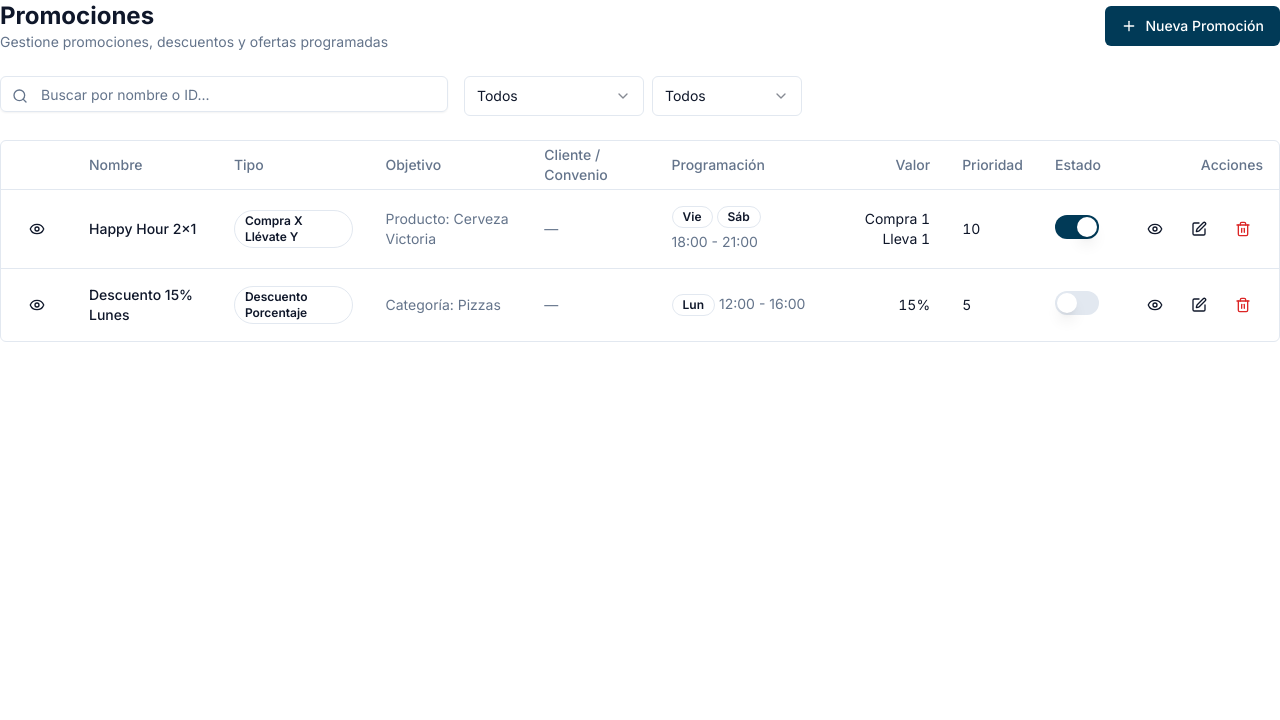
PromotionsList › target category display (T0.5'd) › resolves the category name in the detail dialog too
This screenshot has width=1280, height=720.
Step 1. Click the button named "Ver detalles" in the row of "Descuento 15% Lunes" → coordinates (1155, 304), box [1135,284,1175,324]
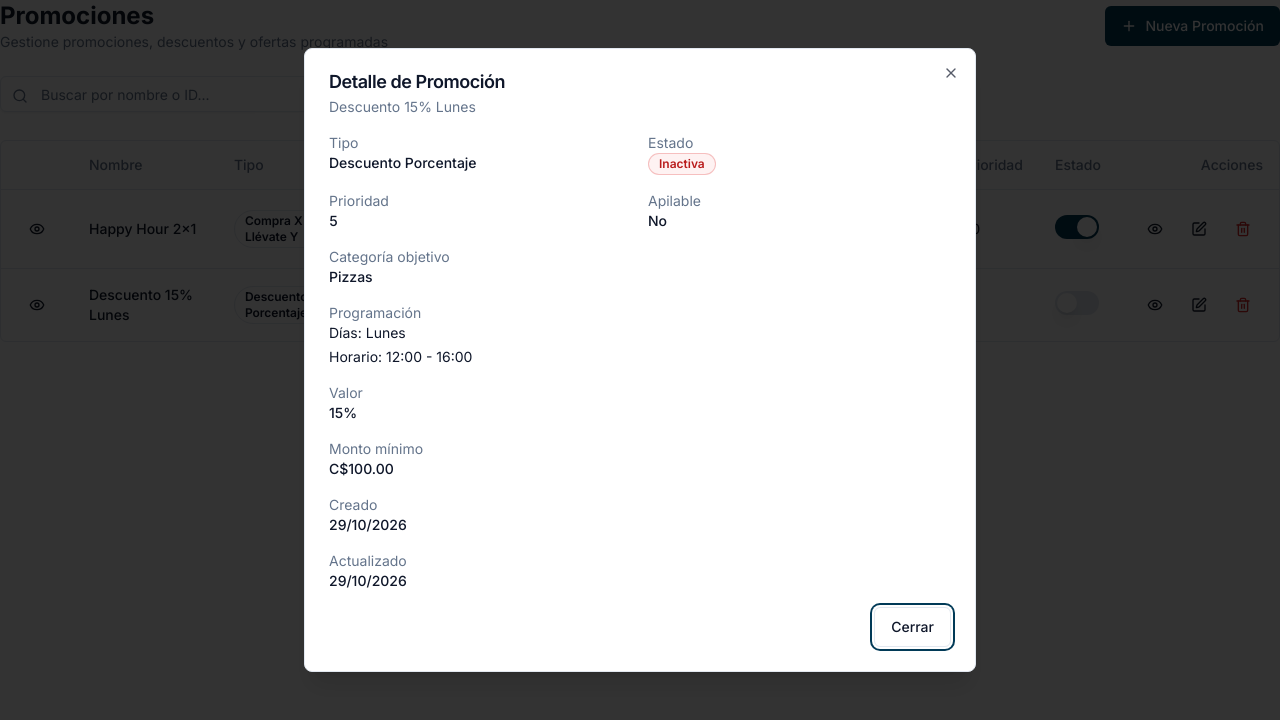
expect the text "Pizzas" is shown: met, box [329,268,373,285]
